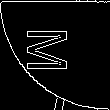M_E: (30, 32, 80, 78)
